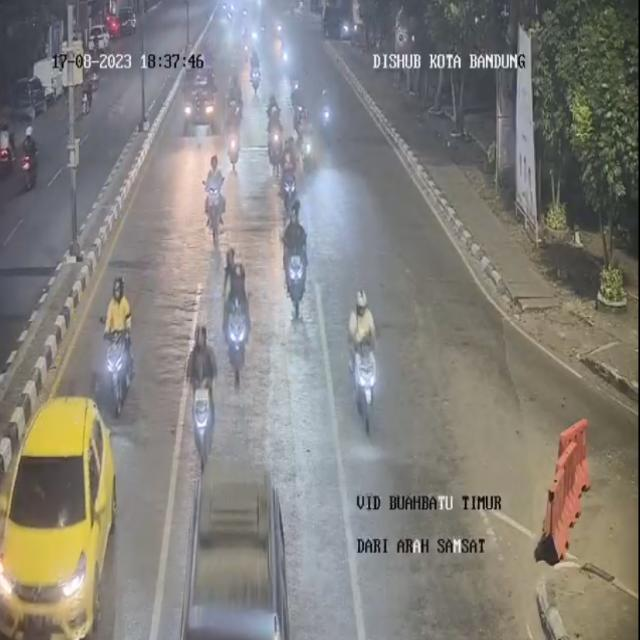cars: (0, 392, 120, 637), (180, 454, 298, 637), (183, 68, 218, 134)
motorcycle: (342, 281, 388, 432), (95, 276, 138, 418), (219, 246, 258, 383), (182, 322, 218, 468), (280, 218, 312, 321), (199, 150, 226, 254), (280, 172, 302, 244), (296, 105, 316, 178), (230, 95, 247, 178), (280, 139, 300, 209), (265, 100, 284, 173), (224, 108, 242, 174), (318, 82, 336, 142), (272, 23, 291, 79), (228, 72, 245, 126), (189, 119, 211, 155), (208, 132, 224, 178), (250, 52, 264, 98)
